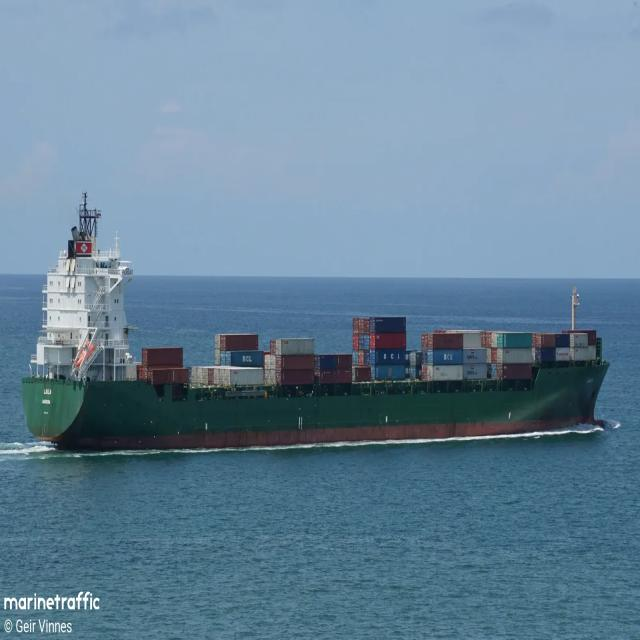Cargo: (22, 196, 609, 451)
